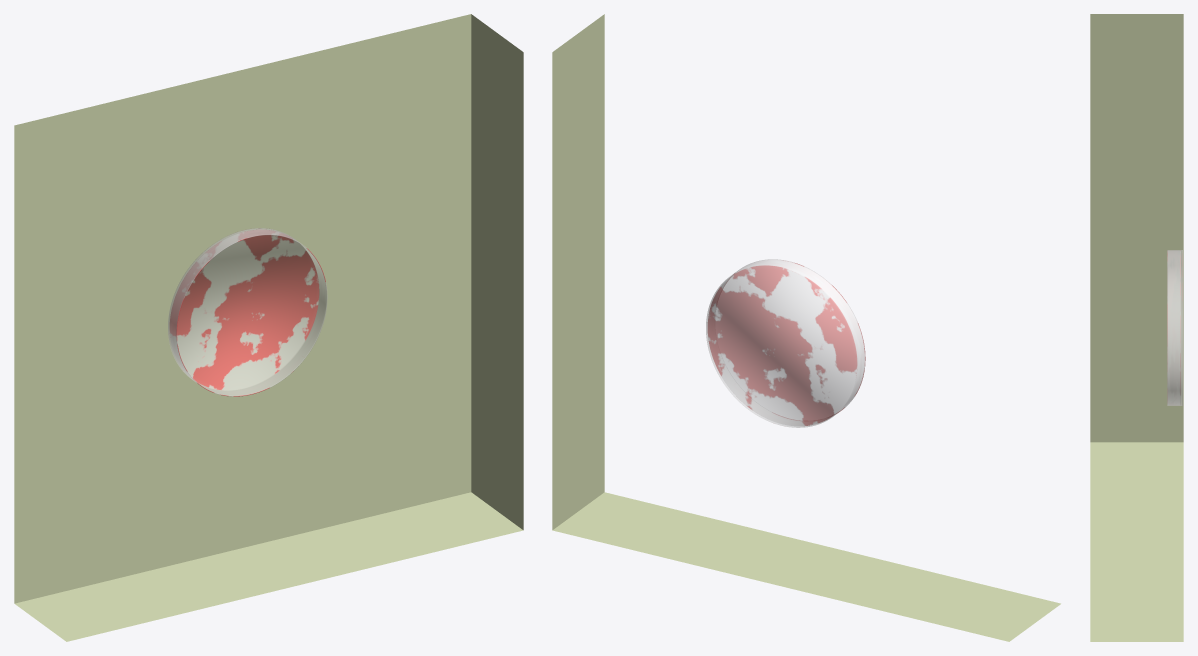
File: petri.glb
3 views of the same model, side by side, from view 1: azimuth 30°, elevation 25°; view 2: azimuth 150°, elevation 25°; view 3: azimuth 270°, elevation 25° (orthographic). The views are drawn at different scales.
Visible parts, largest first — view 1: Cube, Cylinder; view 2: Cube, Cylinder; view 3: Cube, Cylinder.
Boxes of the visible parts, x1,y1,x2,y2 form: Cube: [14, 14, 523, 641]; Cylinder: [168, 228, 327, 396]; Cube: [552, 14, 1060, 641]; Cylinder: [706, 259, 865, 427]; Cube: [1090, 14, 1183, 641]; Cylinder: [1167, 250, 1182, 405].
Size of the model in its own units: 60.54 by 60.54 by 12.
2 materials, 1 textured.
